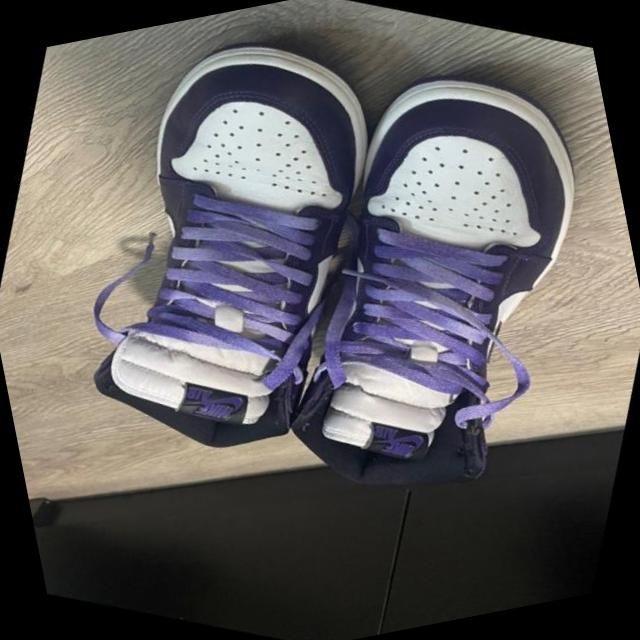nike_original_jordan: (198, 10, 640, 561), (15, 0, 459, 507)
